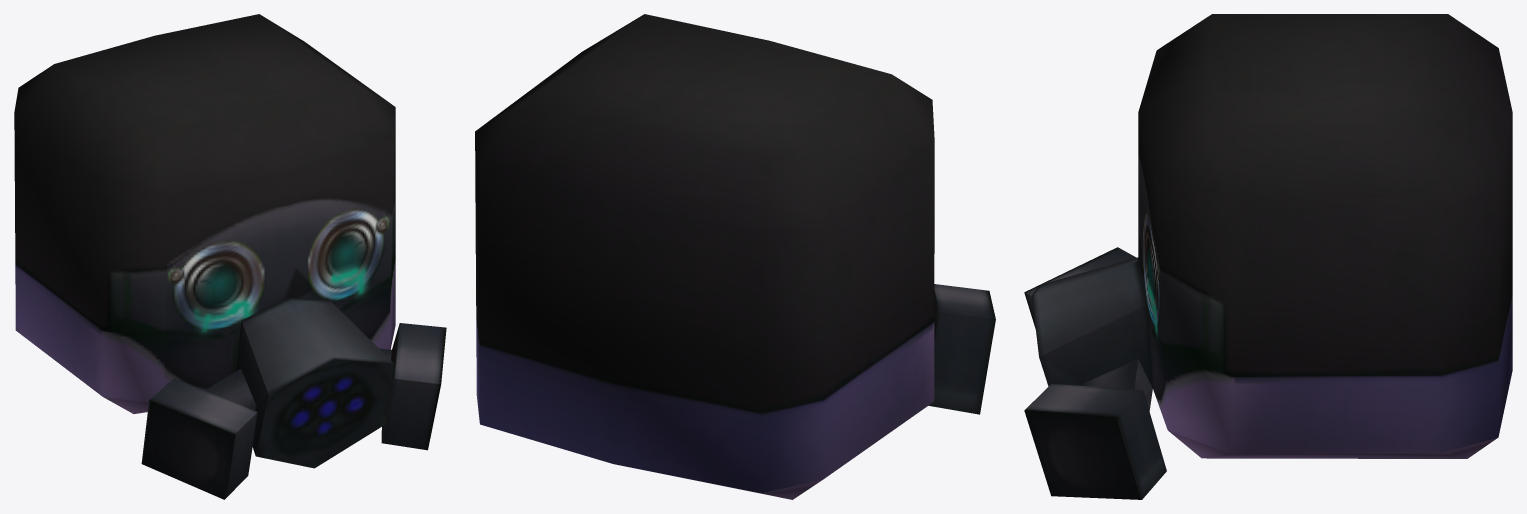
The model's file is Zombie_Self_Destruction_Head.FBX.
3 renders of one model, left to right at view 1: azimuth 30°, elevation 25°; view 2: azimuth 150°, elevation 25°; view 3: azimuth 270°, elevation 25°, orthographic. The views are drawn at different scales.
Visible parts, largest first — view 1: Zombie_Self_Destruction_Head; view 2: Zombie_Self_Destruction_Head; view 3: Zombie_Self_Destruction_Head.
Boxes of the visible parts, bbox=[...] form: Zombie_Self_Destruction_Head: bbox=[14, 14, 446, 499]; Zombie_Self_Destruction_Head: bbox=[475, 14, 995, 499]; Zombie_Self_Destruction_Head: bbox=[1024, 14, 1512, 499].
Size of the model in its own units: 0.639 by 0.6486 by 0.7761.
